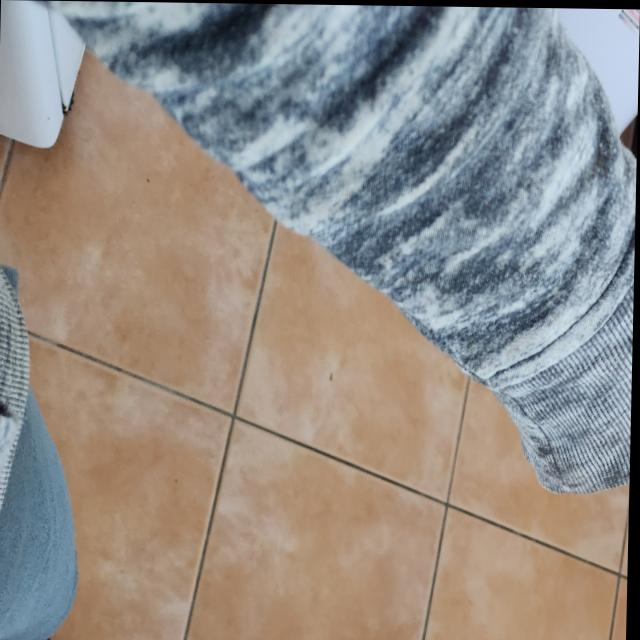olive oil: (585, 625, 629, 640)
